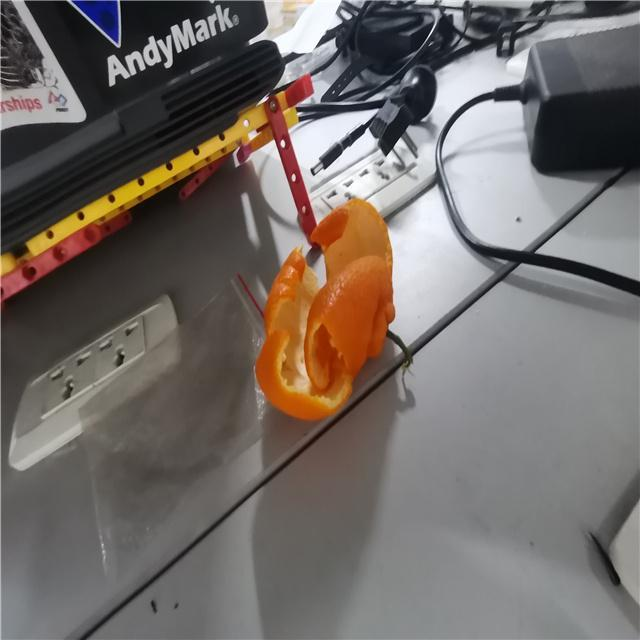orange-peel: (253, 196, 396, 420)
